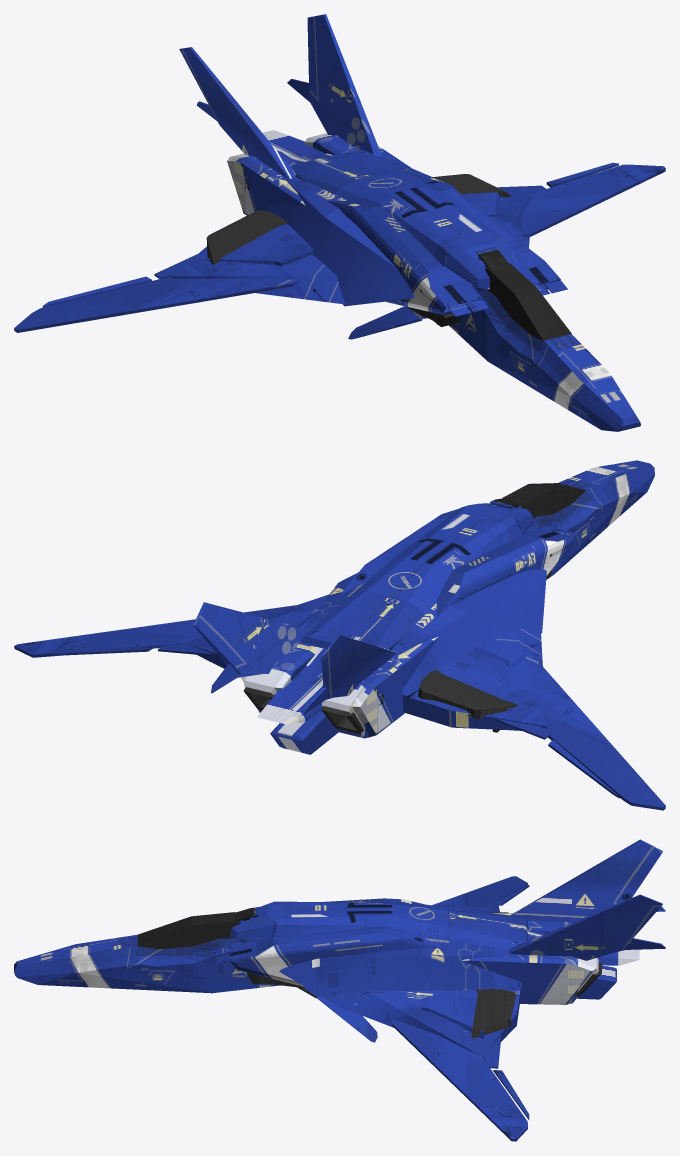
The model's file is omega_fighter_soul.FBX.
The picture shows the model from 3 angles, top to bottom: view 1: azimuth 30°, elevation 25°; view 2: azimuth 150°, elevation 25°; view 3: azimuth 270°, elevation 25°; orthographic projection. The views are drawn at different scales.
Parts seen in each view (by area): view 1: polySurface2; view 2: polySurface2; view 3: polySurface2.
Part boxes in pixels (x1,y1,x2,y2): polySurface2: (14,14,665,431); polySurface2: (14,460,665,810); polySurface2: (14,839,665,1141).
Size of the model in its own units: 618 by 160 by 640.
